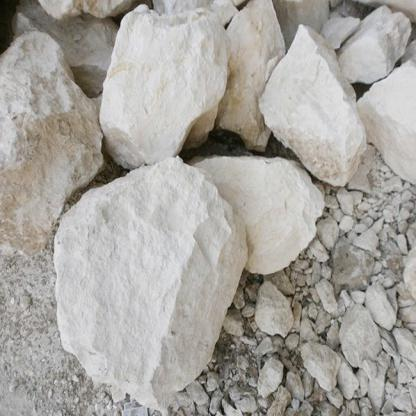Sedimentary_Chalk: (49, 155, 249, 389), (252, 22, 387, 194), (97, 8, 236, 154)
